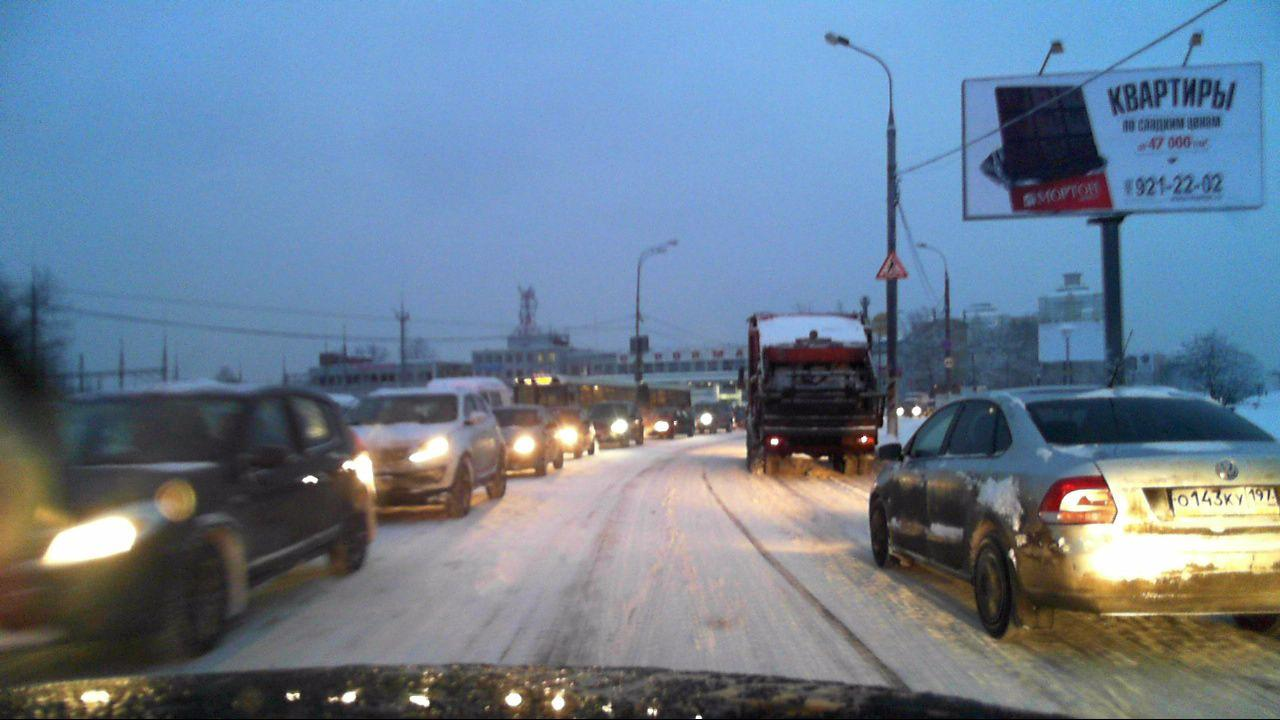road_sign: (872, 246, 911, 281)
